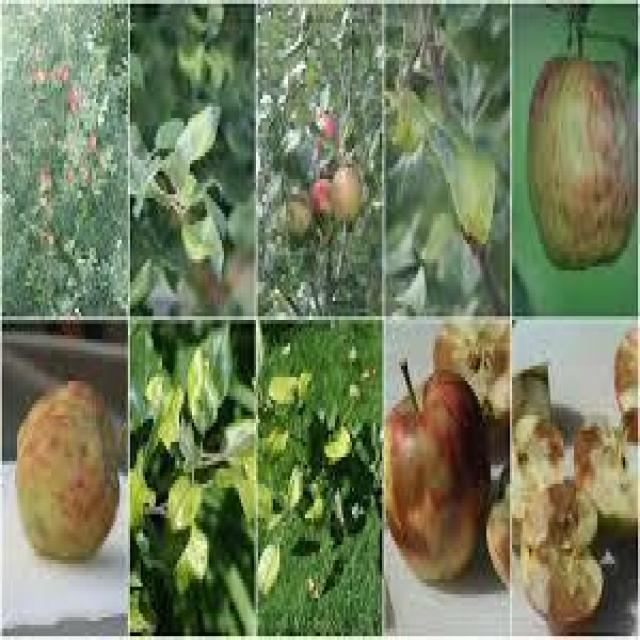maca: (382, 362, 488, 579), (15, 377, 119, 556)
